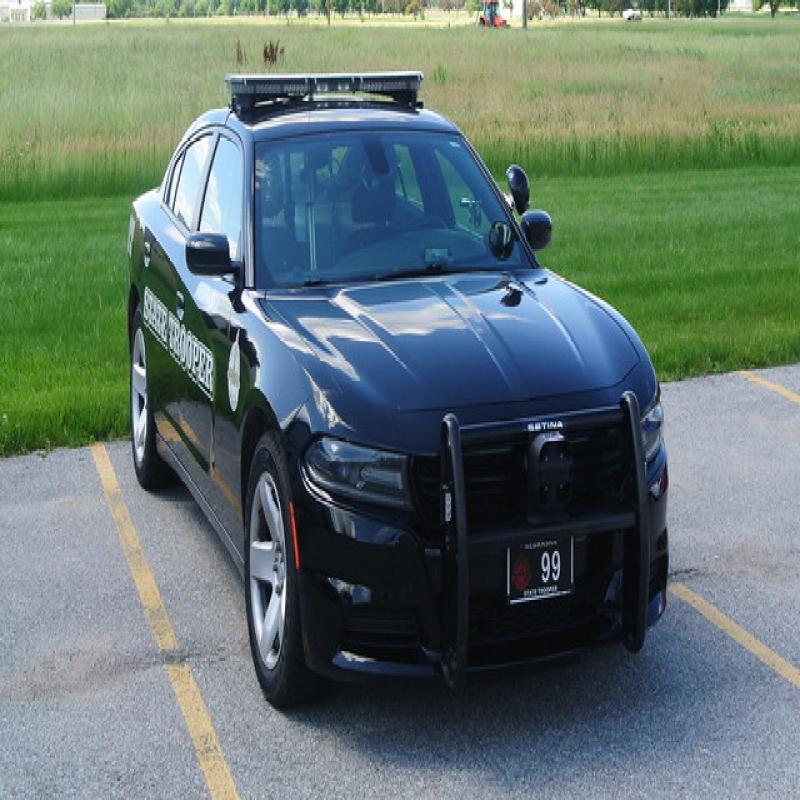AmbulanceSiren: (221, 57, 432, 107)
